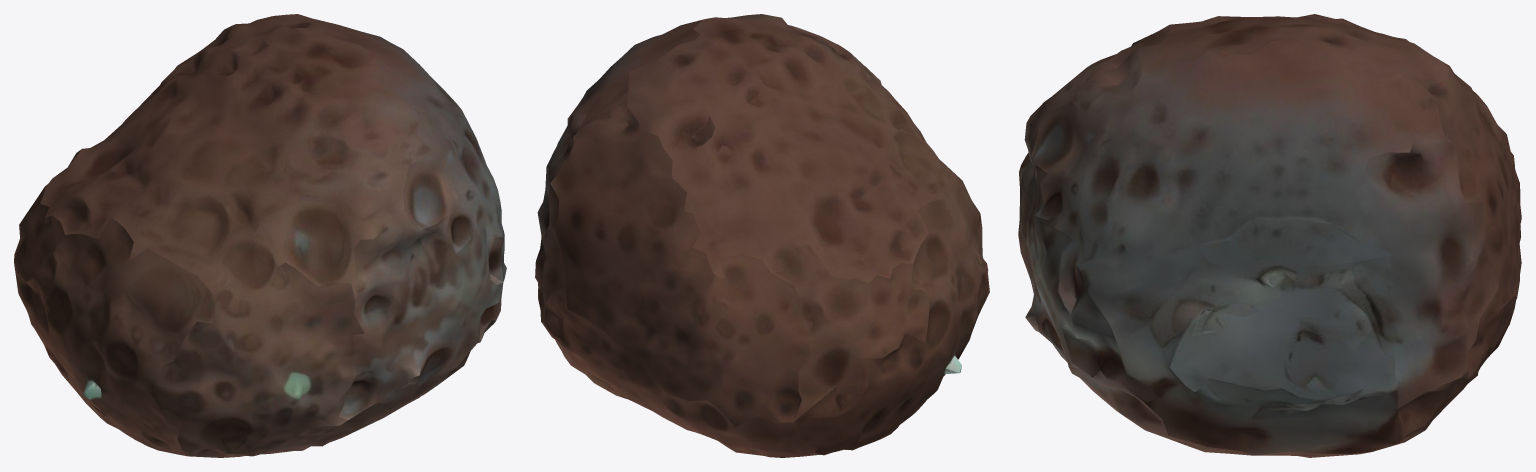
Rendered from asteroid_big.glb.
3 renders of one model, left to right at view 1: azimuth 30°, elevation 25°; view 2: azimuth 150°, elevation 25°; view 3: azimuth 270°, elevation 25°, orthographic. The views are drawn at different scales.
Visible parts, largest first — view 1: asteroid_big; view 2: asteroid_big; view 3: asteroid_big.
Boxes of the visible parts, bbox=[...] form: asteroid_big: bbox=[14, 14, 506, 457]; asteroid_big: bbox=[535, 14, 989, 457]; asteroid_big: bbox=[1018, 14, 1521, 457].
Bounding box in the file's own units: 1 × 0.9457 × 0.9981.
1 material, 1 textured.
